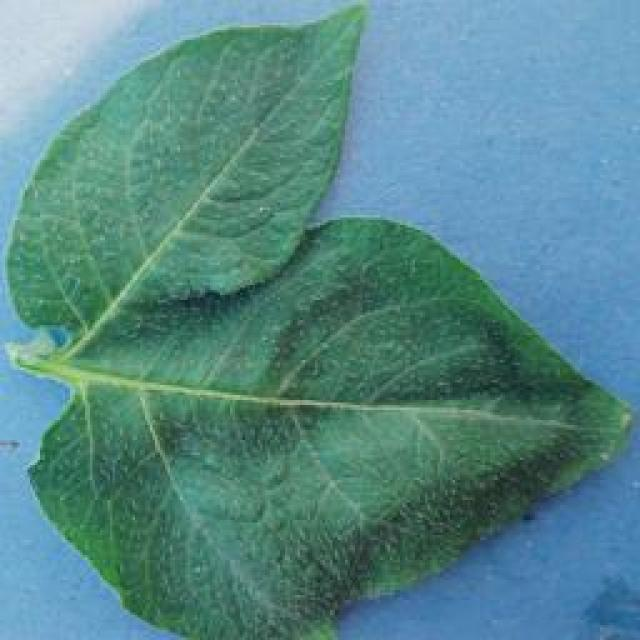Potato_Healthy: (11, 4, 628, 635)
